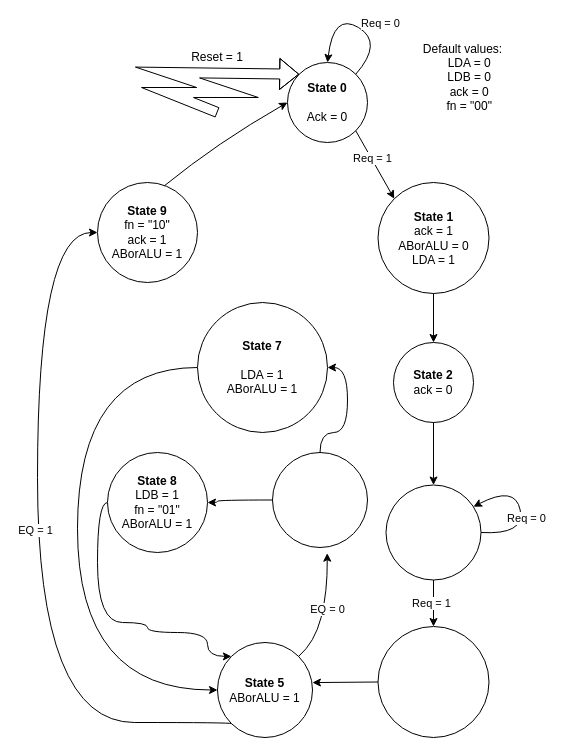
Some shapes in this 563 by 756 pixel diagram are drawn without their labels. Each missing label, with the centre of its shape:
"State 3" goes at point (433, 532).
"State 4 ABorALU = 0 LDB = 1" goes at point (433, 682).
"State 6 ABorALU = 1" goes at point (320, 500).
